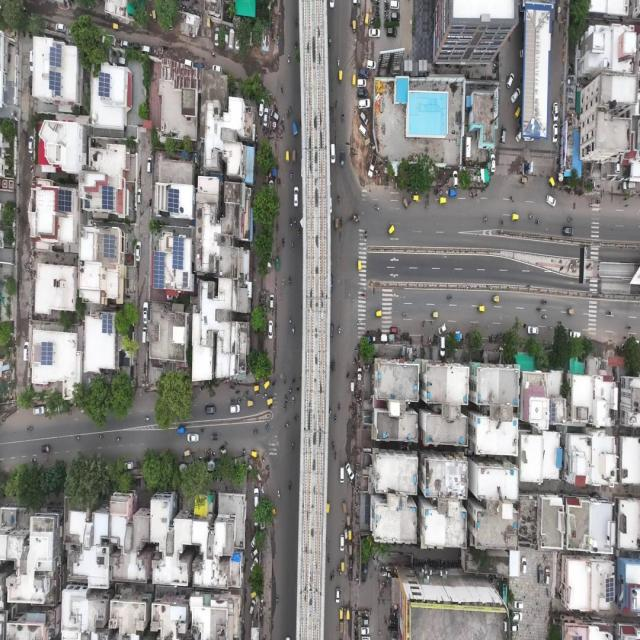3W: (510, 210, 520, 227), (545, 176, 557, 190), (389, 324, 402, 336), (41, 443, 51, 458), (475, 304, 486, 316), (518, 176, 530, 187), (565, 305, 575, 318), (513, 105, 522, 119), (330, 357, 337, 375), (386, 224, 396, 236), (490, 294, 502, 304), (343, 525, 349, 544), (112, 21, 122, 32), (250, 448, 259, 460), (351, 17, 357, 34), (374, 309, 384, 319), (402, 197, 409, 211), (341, 501, 348, 515), (264, 378, 271, 391), (291, 149, 297, 164), (345, 606, 351, 621), (334, 216, 339, 233), (357, 256, 362, 273), (284, 150, 290, 164), (152, 8, 158, 22), (206, 16, 212, 30), (348, 556, 354, 570), (347, 570, 353, 584), (430, 311, 439, 320), (266, 396, 274, 406), (411, 194, 419, 204), (346, 514, 352, 527), (184, 448, 191, 459), (338, 70, 343, 85), (351, 72, 356, 87), (211, 432, 219, 441), (340, 561, 346, 573), (347, 528, 353, 540), (247, 399, 254, 409), (439, 196, 446, 206), (339, 607, 344, 621), (326, 501, 331, 515), (339, 621, 344, 634), (253, 384, 260, 393), (365, 12, 369, 27), (347, 545, 353, 555), (272, 507, 276, 519)
Cars: (510, 84, 523, 105), (360, 561, 370, 587), (345, 459, 355, 482), (551, 98, 560, 123), (526, 323, 540, 338), (134, 241, 143, 264), (551, 123, 560, 146), (252, 486, 261, 508), (438, 337, 447, 359), (562, 225, 576, 239), (292, 184, 300, 208), (499, 125, 508, 146), (546, 191, 557, 208), (32, 404, 45, 418), (358, 96, 371, 110), (537, 562, 544, 588), (568, 327, 580, 342), (359, 111, 370, 127), (228, 27, 235, 51), (367, 27, 381, 39), (544, 565, 550, 592), (338, 464, 346, 484), (143, 300, 149, 326), (186, 432, 200, 443), (141, 325, 148, 347), (452, 169, 459, 191), (437, 322, 448, 336), (338, 532, 345, 554), (28, 49, 34, 74), (146, 155, 153, 176), (115, 55, 127, 67), (204, 404, 217, 415), (359, 66, 369, 80), (214, 26, 220, 49), (507, 70, 514, 89), (330, 142, 336, 164), (28, 134, 34, 156), (386, 26, 398, 37), (521, 556, 527, 578), (512, 610, 523, 622), (248, 557, 258, 570), (56, 21, 66, 34), (136, 188, 143, 206), (23, 341, 29, 362), (263, 106, 269, 127), (229, 404, 241, 414), (259, 98, 265, 118), (357, 88, 369, 98), (335, 586, 341, 606), (358, 125, 367, 138), (330, 321, 335, 344), (268, 320, 274, 339), (249, 599, 256, 615), (183, 58, 194, 68), (270, 110, 280, 121), (390, 12, 401, 22), (390, 1, 401, 11), (367, 58, 376, 70), (340, 150, 346, 168), (124, 460, 134, 470), (269, 292, 274, 312), (120, 39, 130, 49), (141, 44, 151, 54), (491, 153, 496, 173), (514, 601, 524, 611), (356, 78, 367, 87), (360, 616, 369, 627), (130, 41, 140, 50), (212, 64, 222, 73), (362, 625, 372, 634), (28, 76, 32, 98), (250, 548, 258, 558), (194, 62, 204, 69), (275, 257, 279, 273), (512, 624, 519, 632)
LCV: (366, 153, 376, 180), (292, 121, 298, 138), (351, 214, 361, 224), (17, 206, 22, 217), (29, 164, 34, 174), (17, 182, 23, 190)
M2W: (26, 422, 36, 435), (533, 216, 543, 229), (418, 319, 428, 332), (526, 209, 534, 225), (113, 432, 122, 445), (336, 321, 343, 337), (142, 414, 151, 426), (328, 570, 335, 584), (360, 289, 367, 302), (539, 298, 548, 308), (594, 197, 602, 208), (469, 189, 476, 201), (565, 216, 575, 224), (355, 318, 363, 328), (279, 116, 285, 128), (535, 305, 544, 313), (418, 334, 424, 346), (330, 437, 336, 449), (326, 553, 332, 565), (540, 312, 550, 319), (546, 322, 553, 332), (605, 308, 612, 318), (464, 330, 471, 340), (286, 53, 292, 64), (427, 335, 433, 346), (353, 343, 358, 356), (498, 218, 506, 226), (74, 434, 81, 443), (96, 433, 103, 442), (294, 16, 299, 28), (280, 84, 285, 96), (446, 294, 456, 300), (353, 355, 358, 367), (337, 401, 343, 411), (333, 414, 338, 426), (198, 386, 206, 393), (357, 338, 361, 352), (289, 169, 294, 180), (283, 394, 289, 403), (211, 50, 217, 59), (228, 383, 234, 392), (337, 193, 341, 206), (336, 57, 341, 67), (333, 452, 338, 462), (220, 449, 227, 456), (374, 204, 380, 212), (340, 216, 344, 228), (333, 567, 337, 579), (290, 441, 294, 452), (288, 277, 292, 288), (282, 238, 286, 249), (31, 457, 37, 464), (284, 422, 290, 429), (210, 451, 217, 457), (482, 216, 489, 222), (401, 311, 408, 317), (276, 490, 280, 500), (288, 385, 292, 395), (276, 223, 280, 233), (278, 177, 282, 187), (328, 37, 332, 47), (364, 229, 368, 239), (337, 194, 341, 204), (253, 428, 259, 434), (292, 415, 298, 421), (296, 385, 300, 394), (276, 593, 279, 605), (289, 315, 292, 327), (291, 240, 294, 252), (290, 216, 293, 228), (294, 40, 298, 49), (288, 106, 292, 115), (282, 124, 286, 133), (262, 392, 267, 399), (197, 455, 202, 462), (291, 395, 294, 406), (242, 448, 246, 456), (262, 456, 266, 464), (135, 458, 138, 468), (230, 398, 236, 403), (236, 398, 242, 403), (244, 390, 249, 396), (265, 425, 270, 431), (283, 402, 286, 412), (283, 375, 286, 385), (286, 110, 289, 120), (330, 106, 333, 116), (345, 372, 350, 378), (272, 379, 276, 386), (292, 378, 295, 387), (297, 228, 300, 237), (235, 390, 240, 395), (242, 395, 247, 400), (200, 429, 206, 433), (289, 480, 291, 492), (294, 216, 296, 227), (342, 112, 344, 123), (290, 169, 292, 179), (292, 326, 294, 335)
